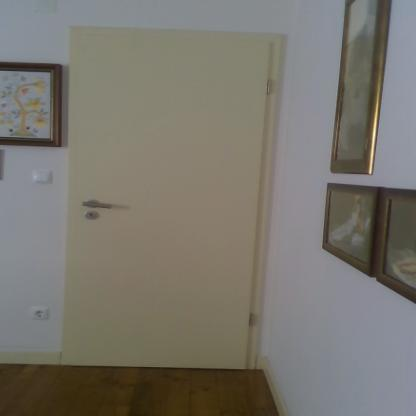door: (71, 32, 270, 372)
hinged: (264, 80, 272, 96), (248, 310, 256, 326)
lever: (84, 200, 112, 210)
